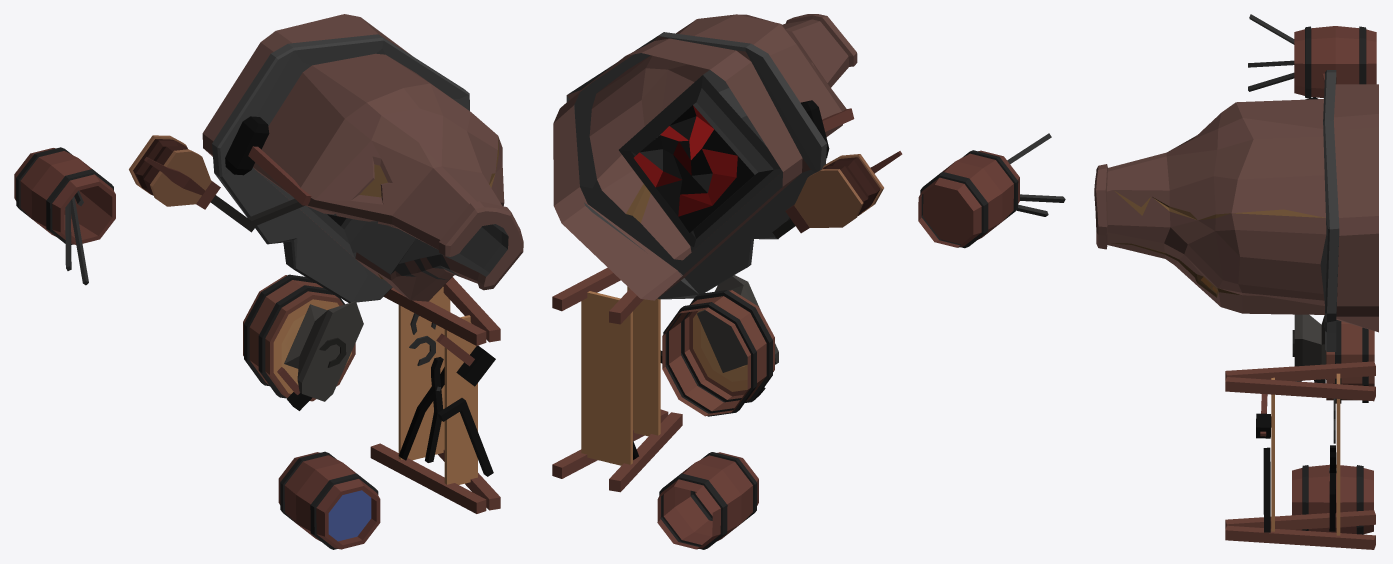
Rendered from smithy_3.fbx.
The picture shows the model from 3 angles, left to right: view 1: azimuth 30°, elevation 25°; view 2: azimuth 150°, elevation 25°; view 3: azimuth 270°, elevation 25°; orthographic projection. The views are drawn at different scales.
Parts seen in each view (by area): view 1: oven.001, shelving, barrel.001, barrel.002, stump.002, bellows.002, anvil.002, hammer.003, ticks left.001, hammer.001, poker; view 2: oven.001, shelving, stump.002, barrel.002, barrel.001, bellows.002, anvil.002, hammer.003; view 3: oven.001, shelving, barrel.002, barrel.001, stump.002, anvil.002, poker, ticks left.001, hammer.001.
Boxes of the visible parts, x1=… form: oven.001: x1=202, y1=14, x2=523, y2=302; shelving: x1=370, y1=277, x2=500, y2=513; barrel.001: x1=278, y1=451, x2=380, y2=549; barrel.002: x1=14, y1=147, x2=115, y2=244; stump.002: x1=243, y1=274, x2=355, y2=401; bellows.002: x1=129, y1=135, x2=304, y2=232; anvil.002: x1=284, y1=301, x2=363, y2=401; hammer.003: x1=225, y1=116, x2=311, y2=205; ticks left.001: x1=398, y1=357, x2=444, y2=462; hammer.001: x1=436, y1=333, x2=495, y2=386; poker: x1=437, y1=398, x2=493, y2=476; oven.001: x1=553, y1=14, x2=857, y2=300; shelving: x1=552, y1=267, x2=682, y2=492; stump.002: x1=662, y1=290, x2=774, y2=416; barrel.002: x1=918, y1=150, x2=1019, y2=248; barrel.001: x1=657, y1=452, x2=758, y2=549; bellows.002: x1=772, y1=151, x2=902, y2=238; anvil.002: x1=697, y1=275, x2=778, y2=372; hammer.003: x1=801, y1=100, x2=854, y2=158; oven.001: x1=1094, y1=70, x2=1378, y2=351; shelving: x1=1225, y1=361, x2=1375, y2=549; barrel.002: x1=1294, y1=26, x2=1376, y2=98; barrel.001: x1=1292, y1=464, x2=1373, y2=534; stump.002: x1=1326, y1=320, x2=1374, y2=403; anvil.002: x1=1294, y1=314, x2=1326, y2=381; poker: x1=1263, y1=447, x2=1270, y2=532; ticks left.001: x1=1329, y1=445, x2=1336, y2=531; hammer.001: x1=1256, y1=394, x2=1271, y2=438.
Bounding box in the file's own units: 1.65 × 1.75 × 1.02.
